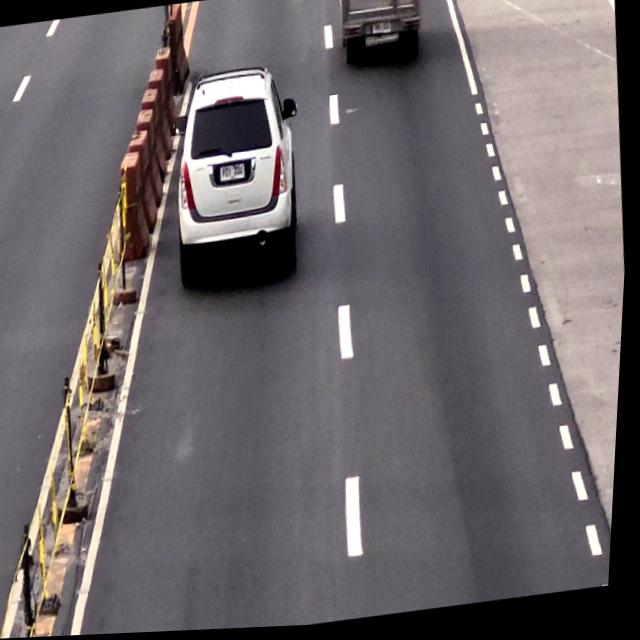Car: (169, 68, 309, 284)
License-Plate: (218, 162, 250, 187)
